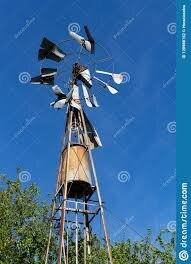faulty: (33, 24, 124, 130)
